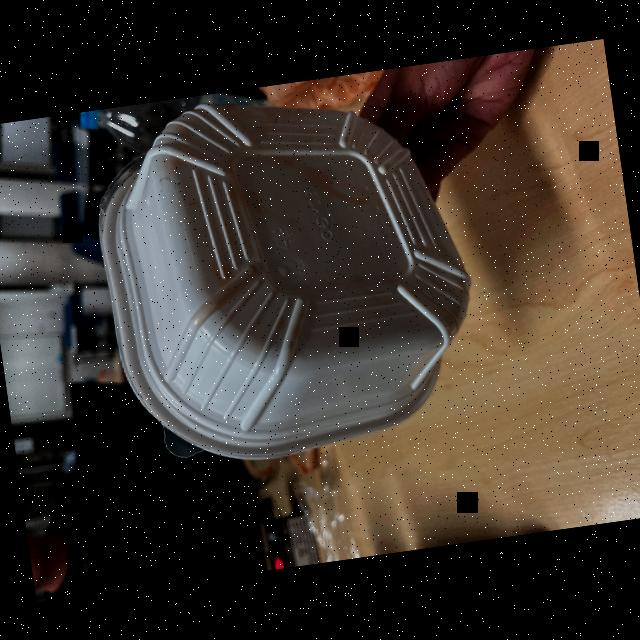plastic_box: (74, 62, 488, 488)
